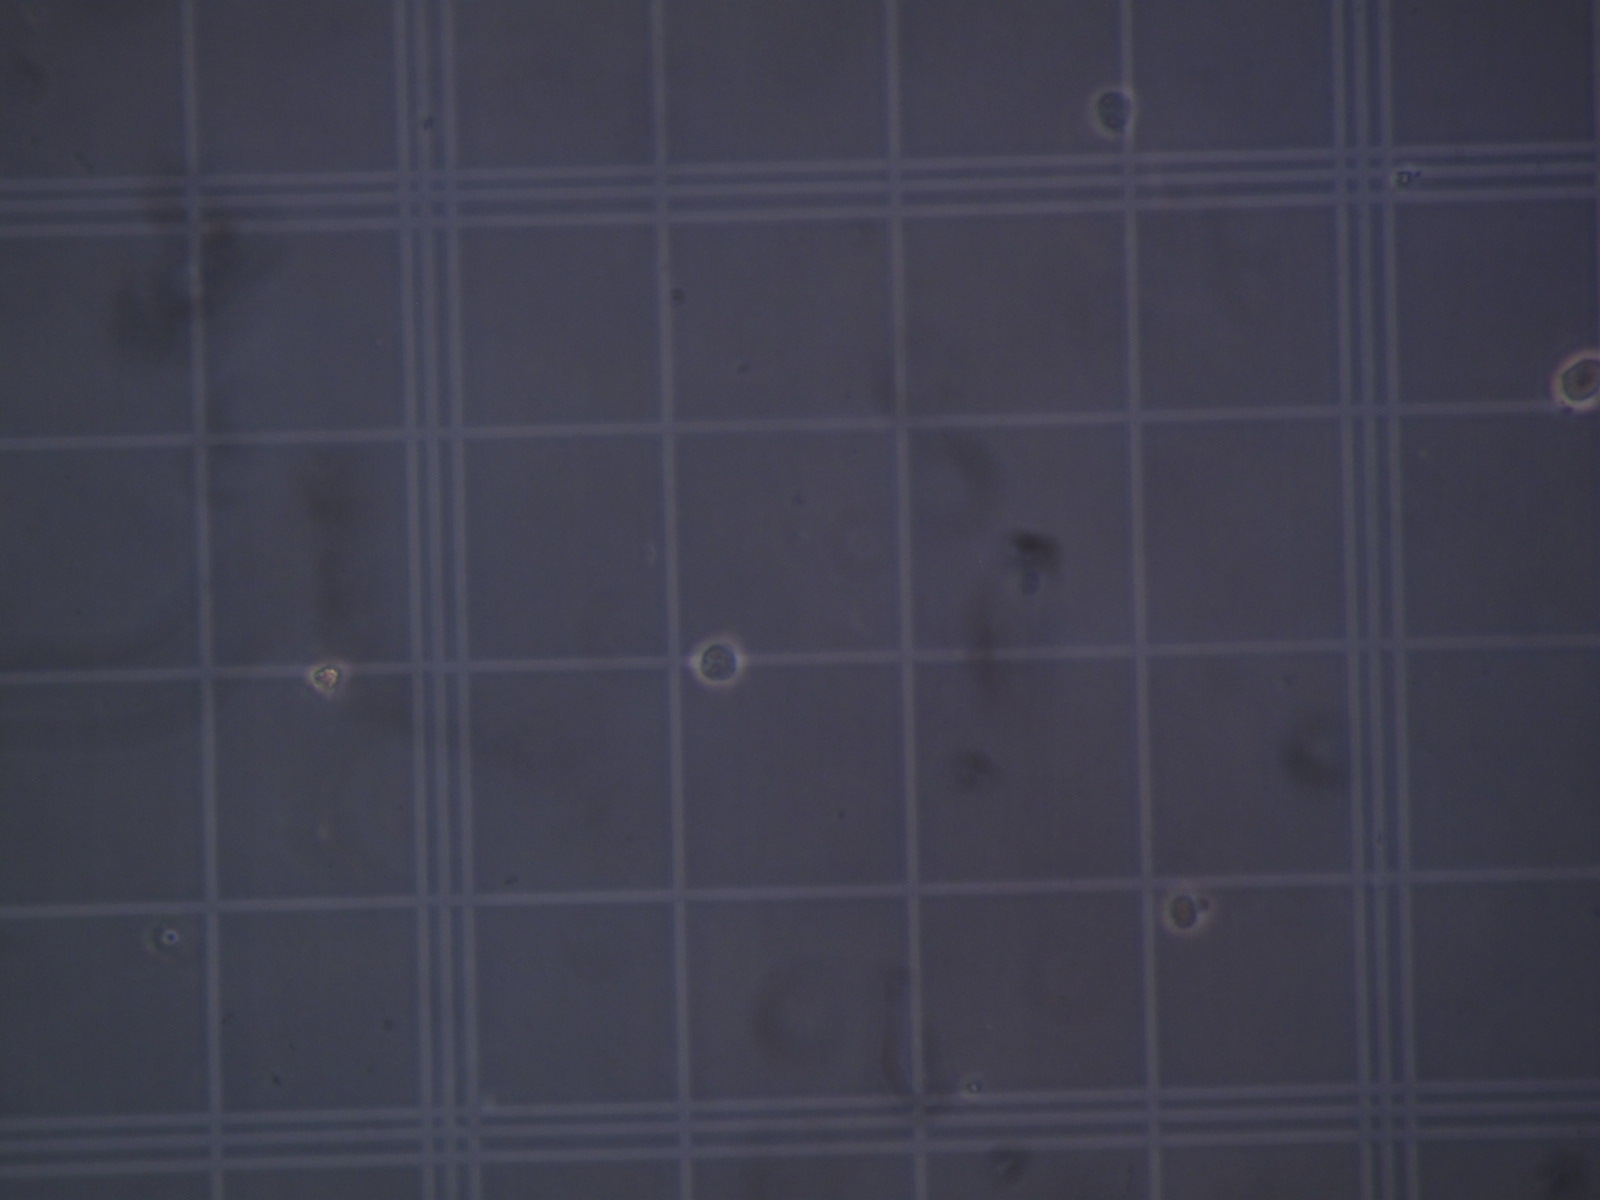hemo: (1552, 349, 1600, 410), (690, 635, 745, 688), (1089, 83, 1139, 140), (1163, 887, 1204, 934), (307, 659, 349, 696)
